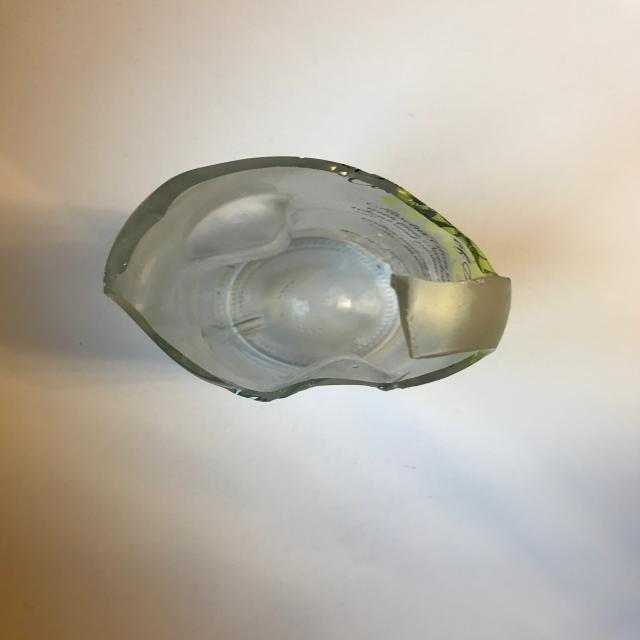glass: (102, 155, 513, 402)
